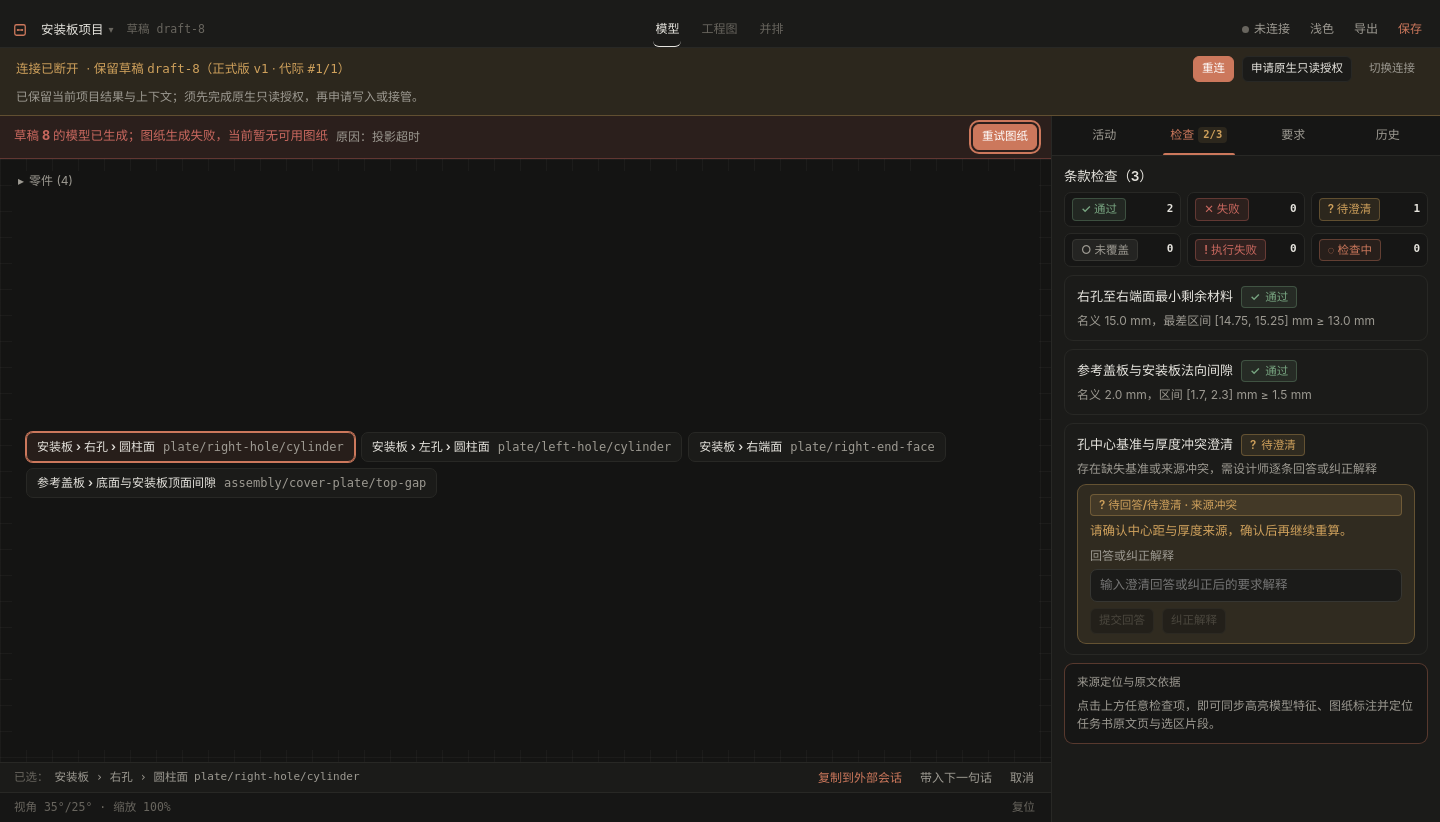
Test: ProjectAgentM1Workbench (M2-FE-01 双视图联动、对象上下文与检查定位) › S5：重试图纸成功后不污染服务端 sequence 水位，随后到达的同序号真实服务端检查事件正常处理
What coordinates should you click on to do the following:
click the button "重试图纸"
I would click on:
 (1005, 137)
Its box is [973, 124, 1037, 150].
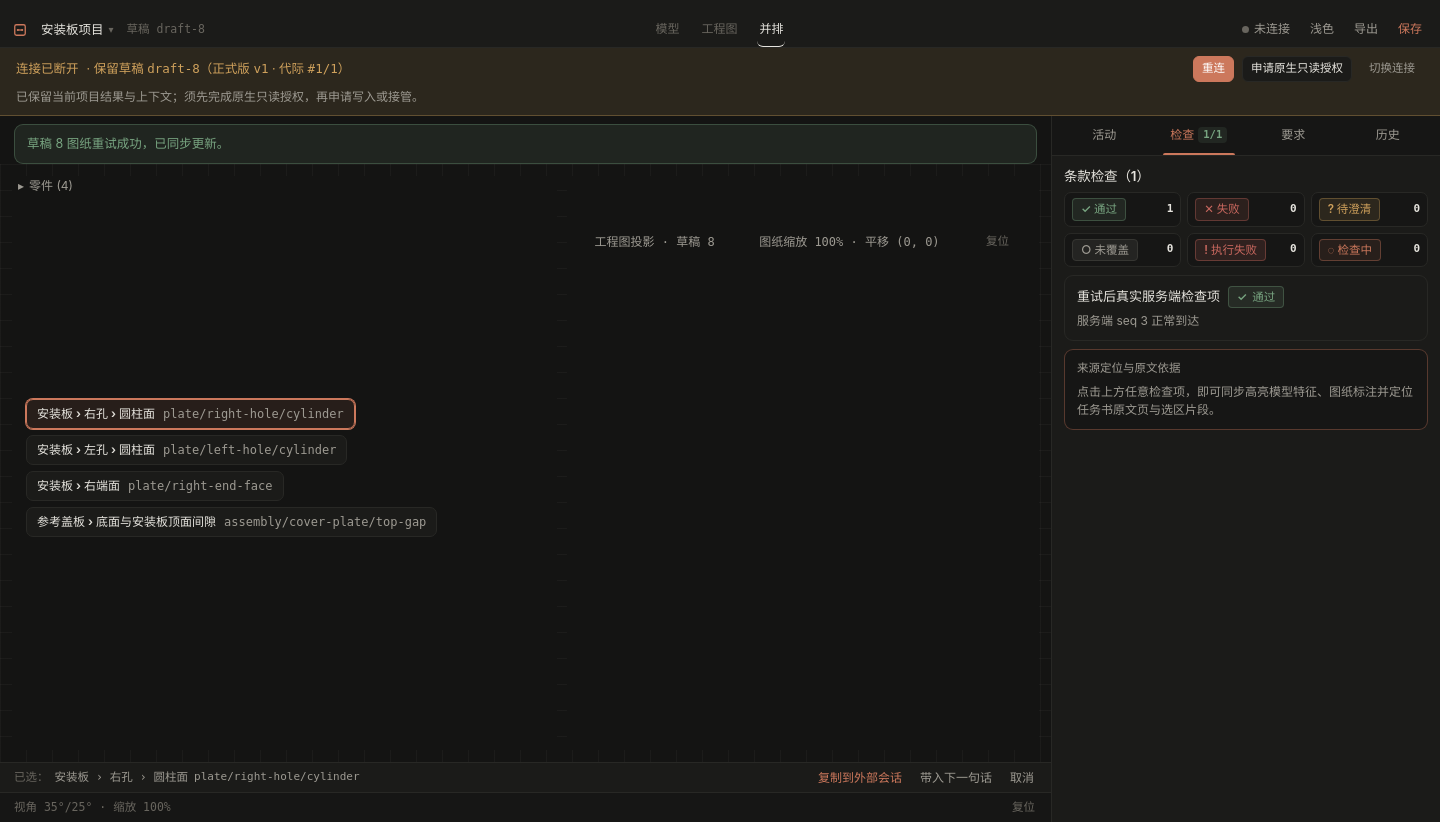
Expected: the text "草稿 8 图纸重试成功，已同步更新。" is shown, [27, 136, 229, 151]
Expected: the text "重试后真实服务端检查项" is shown, [1077, 287, 1220, 306]
